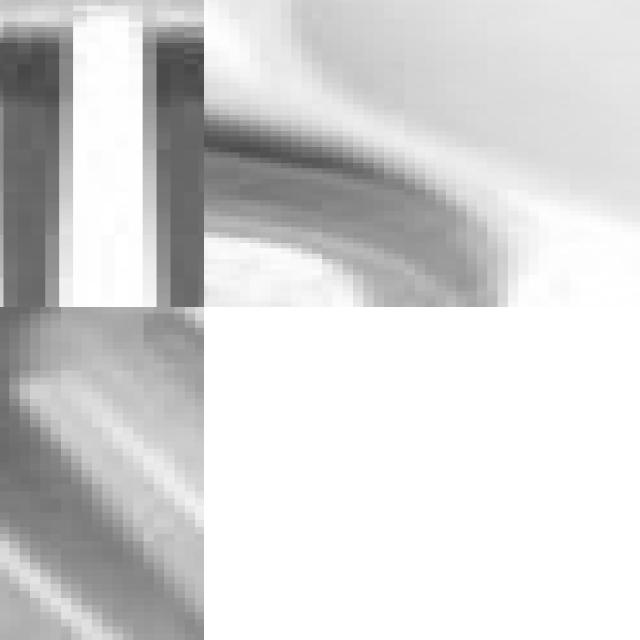forks: (0, 307, 204, 640), (0, 0, 204, 307)
